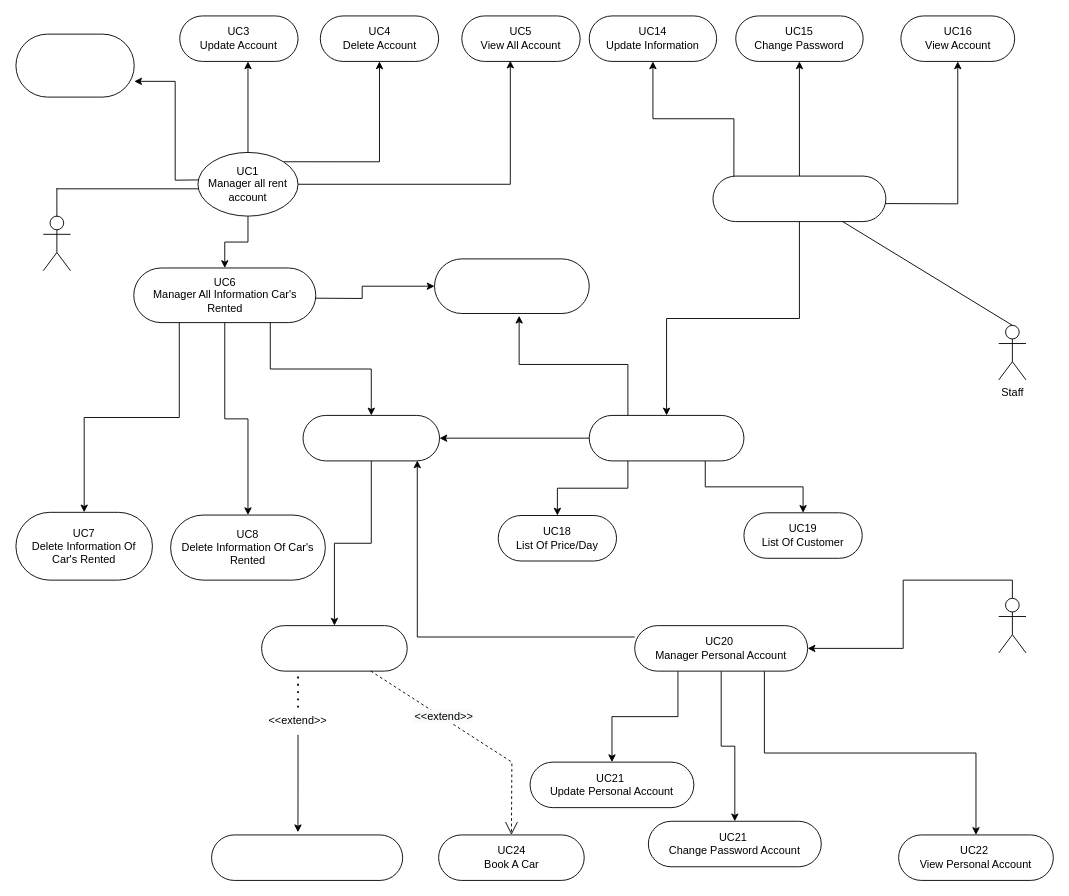
The diagram is 1069 pixels wide and 896 high, and some of its shapes have lost their labels. Here are the shapes that lost their labels. From the top down, the box of each, then its label:
(15, 33, 134, 97): UC2 Create Account
(712, 175, 886, 222): UC13 Manager Personal Account
(42, 215, 71, 271): Admin
(434, 258, 589, 313): UC9 Create Combo Car's For Rent
(302, 415, 440, 461): UC10 List Of Car For Rent
(588, 415, 744, 461): UC17 Manager Day For Rent
(998, 597, 1026, 653): Custommer
(261, 625, 407, 671): UC11 Detail Of Car For Rent
(211, 834, 403, 880): UC12 Modify Details Of Car For Rent
